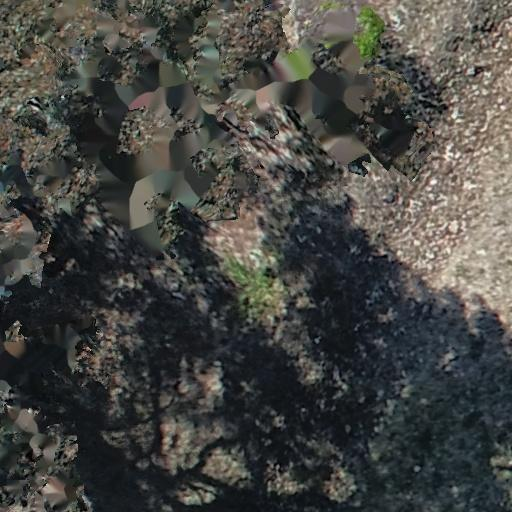stone: (444, 34, 466, 54), (438, 349, 456, 370), (481, 118, 495, 138), (443, 146, 461, 161), (451, 110, 465, 128), (464, 91, 482, 105), (382, 190, 398, 204), (388, 11, 401, 28), (468, 65, 486, 77), (464, 65, 478, 79), (423, 252, 437, 266), (406, 198, 419, 211), (450, 220, 460, 236), (481, 86, 491, 100), (448, 91, 460, 102), (453, 107, 464, 119), (466, 181, 480, 190), (0, 288, 12, 298), (412, 236, 422, 246), (428, 178, 438, 187), (412, 465, 422, 473)
